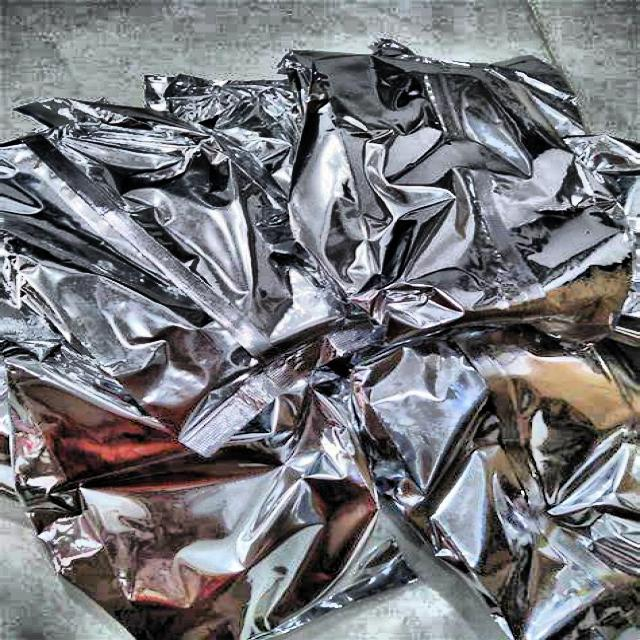Foil: (0, 33, 640, 640)
